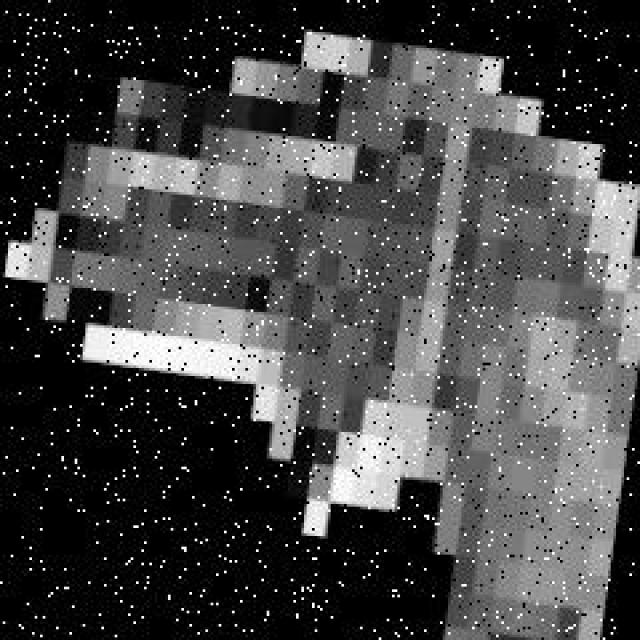handgun: (17, 21, 633, 640)
